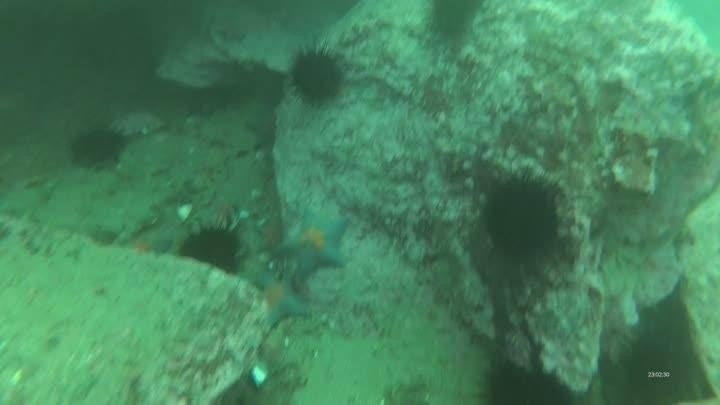echinus: (480, 171, 563, 264), (618, 331, 698, 403), (477, 357, 578, 404), (286, 43, 348, 108), (178, 221, 246, 275), (68, 124, 127, 171), (424, 1, 483, 43)
holothurian: (1, 208, 69, 260), (107, 108, 169, 141)
starfish: (278, 209, 353, 280), (250, 269, 310, 332), (242, 105, 281, 154), (120, 230, 174, 260), (253, 214, 288, 255)
